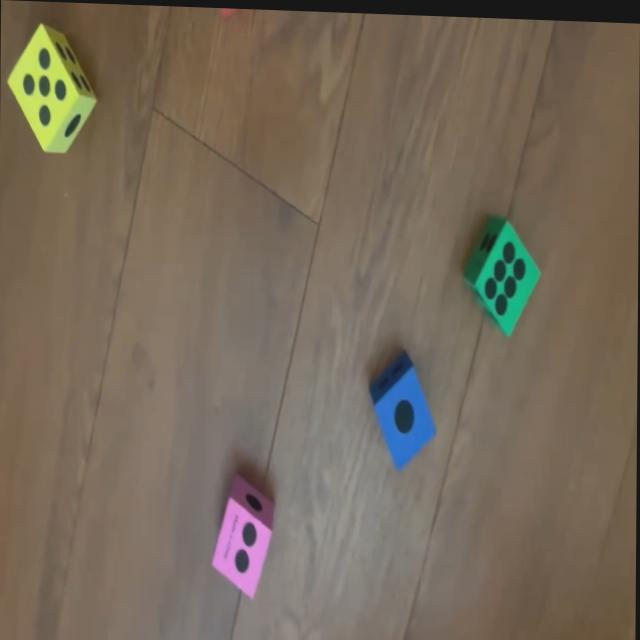blue_block: (368, 347, 438, 473)
